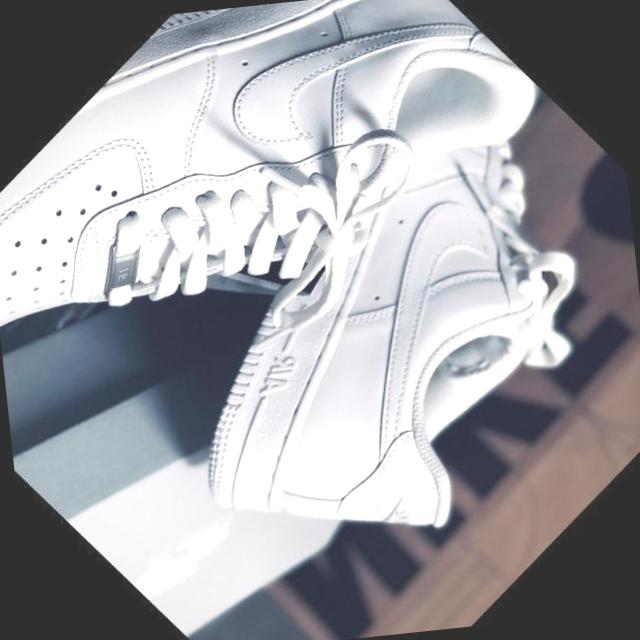nike_original_airforce: (68, 26, 640, 639), (0, 0, 579, 548)
